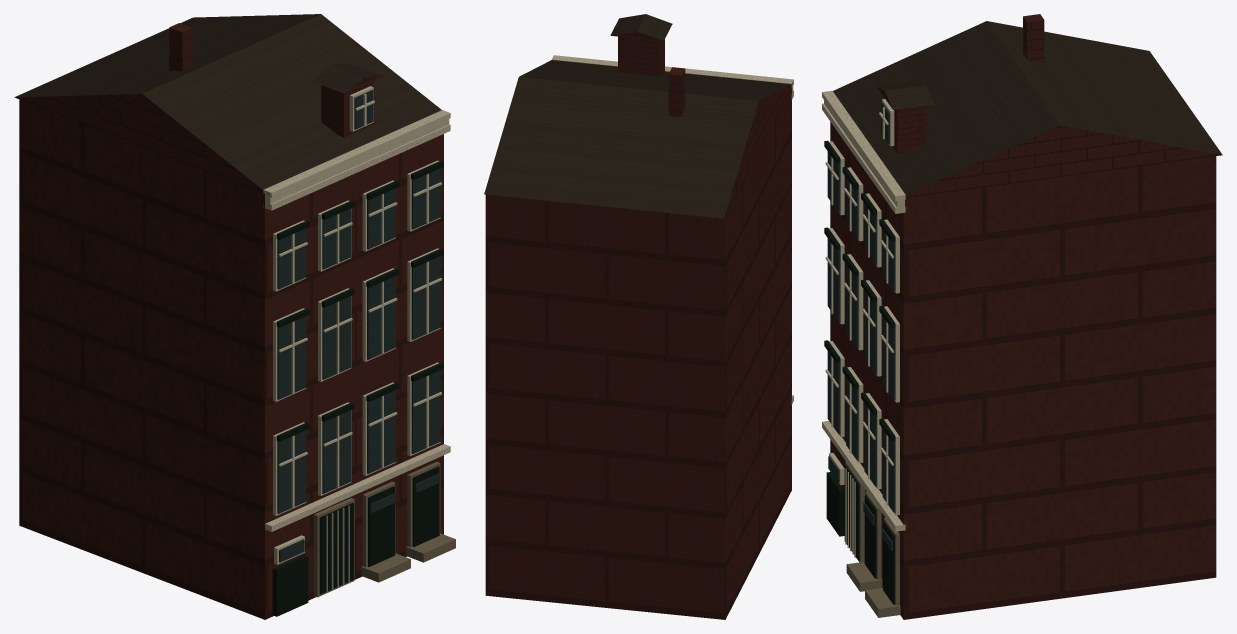
3 views of the same model, side by side, from view 1: azimuth 30°, elevation 25°; view 2: azimuth 150°, elevation 25°; view 3: azimuth 270°, elevation 25° (orthographic). The views are drawn at different scales.
Visible parts, largest first — view 1: wijnhaven69-0, wijnhaven69-1, wijnhaven69-3, wijnhaven69-2, wijnhaven69-4, wijnhaven69-5; view 2: wijnhaven69-0, wijnhaven69-1, wijnhaven69-2; view 3: wijnhaven69-0, wijnhaven69-1, wijnhaven69-2, wijnhaven69-3, wijnhaven69-4, wijnhaven69-5.
Boxes of the visible parts, <box> form: wijnhaven69-0: <box>14,23,443,619</box>; wijnhaven69-1: <box>15,14,441,189</box>; wijnhaven69-3: <box>277,90,440,562</box>; wijnhaven69-2: <box>263,86,450,592</box>; wijnhaven69-4: <box>272,160,443,616</box>; wijnhaven69-5: <box>314,462,455,597</box>; wijnhaven69-0: <box>485,31,793,619</box>; wijnhaven69-1: <box>484,14,790,218</box>; wijnhaven69-2: <box>551,55,793,404</box>; wijnhaven69-0: <box>830,14,1222,619</box>; wijnhaven69-1: <box>833,21,1222,194</box>; wijnhaven69-2: <box>822,90,905,557</box>; wijnhaven69-3: <box>827,102,895,550</box>; wijnhaven69-4: <box>824,140,895,604</box>; wijnhaven69-5: <box>845,461,900,617</box>.
Size of the model in its own units: 12.86 by 20.43 by 14.65.
Materials: 6 (6 with a texture image).
